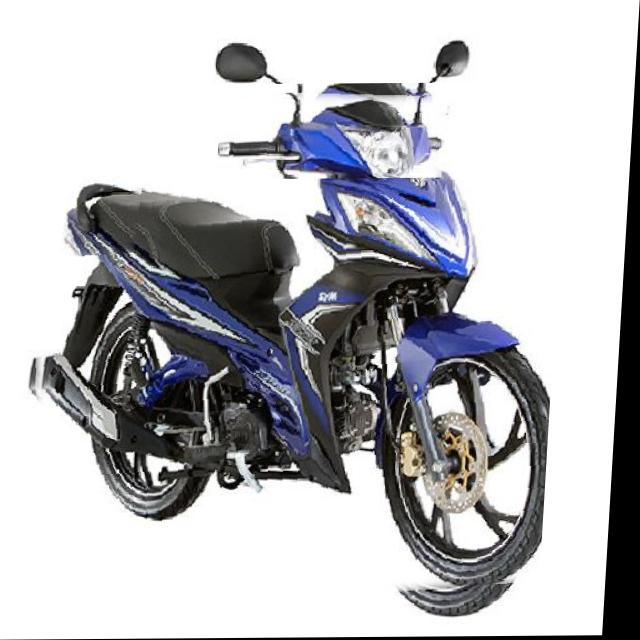All: (16, 83, 570, 619)
Head: (218, 90, 450, 180)
Tail: (64, 178, 146, 258)
